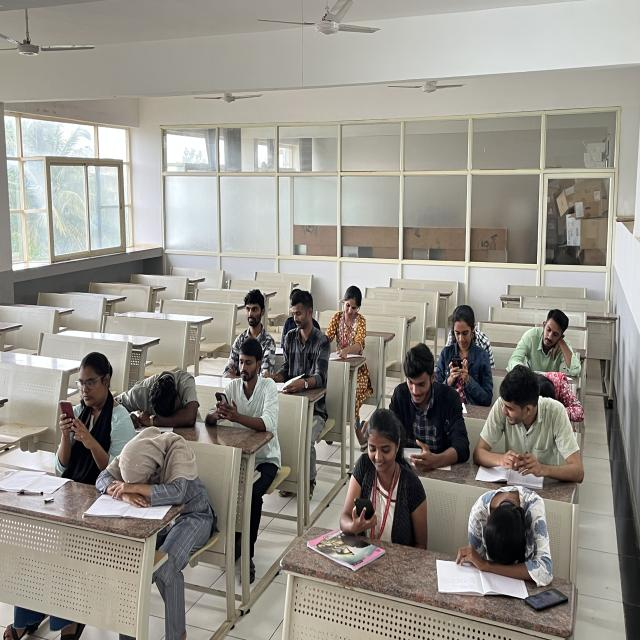Reading: (397, 344, 463, 470), (270, 293, 324, 396), (328, 282, 365, 364)
Sleeping: (460, 486, 562, 582), (96, 430, 209, 509), (526, 362, 587, 428), (137, 369, 202, 428)
Using Phone: (343, 408, 426, 544), (56, 353, 128, 456), (210, 341, 277, 426), (441, 307, 491, 407)
Writing: (514, 306, 588, 381)
